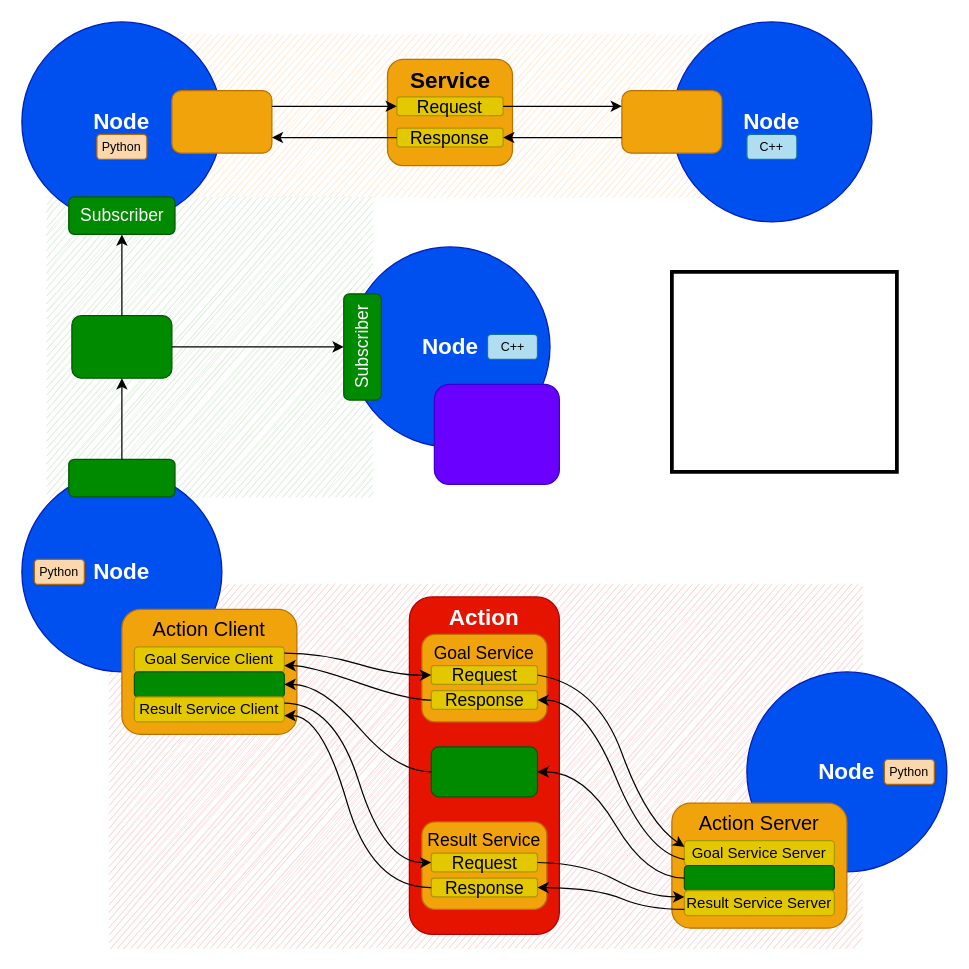
The diagram is 969 pixels wide and 969 high, and some of its shapes have lost their labels. Here are the shapes that lost their labels. From the top down, the centre of each, then its label:
the point at 221,121: Service Client
the point at 671,121: Service Server
the point at 121,346: Topic
the point at 783,371: 5 main components of ROS 2 1. Node 2. Topic 3. Service 4. Parameters 5. Action
the point at 496,433: Parameters - color - size - ...
the point at 121,477: Publisher
the point at 208,684: Feedback Subscriber
the point at 484,771: Feedback Topic
the point at 758,877: Feedback Publisher
